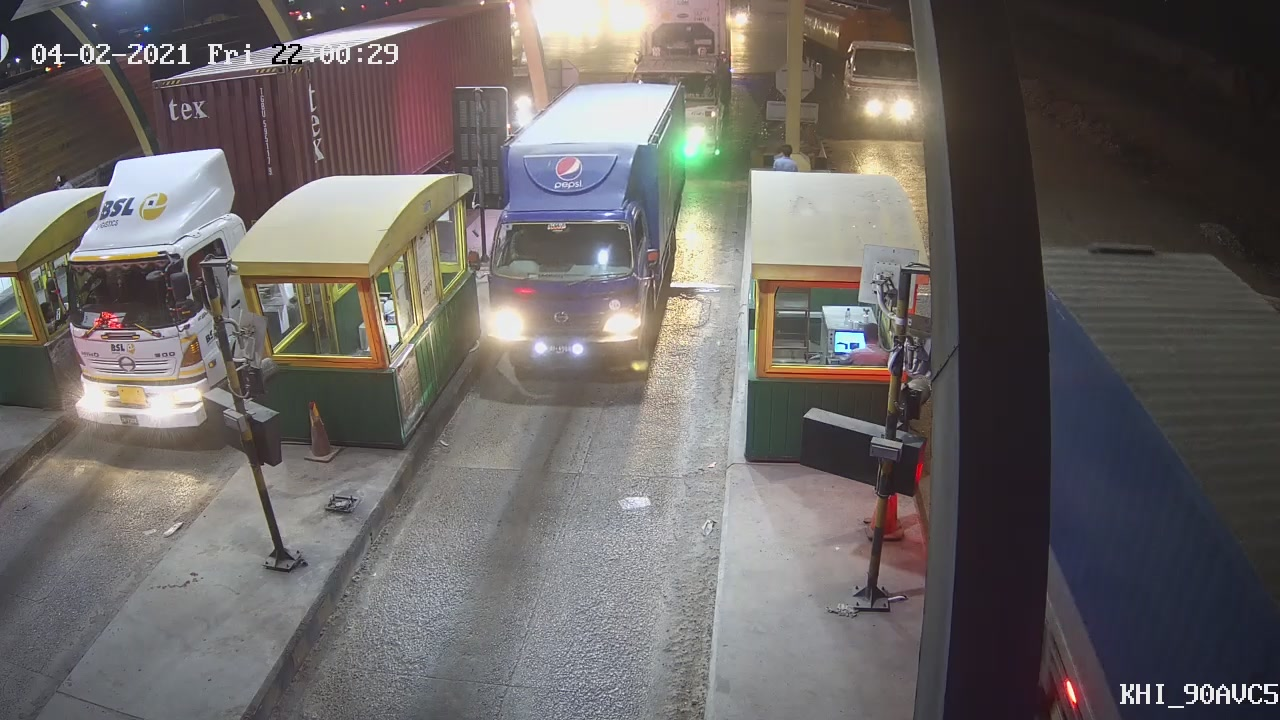F5: (480, 81, 701, 393)
